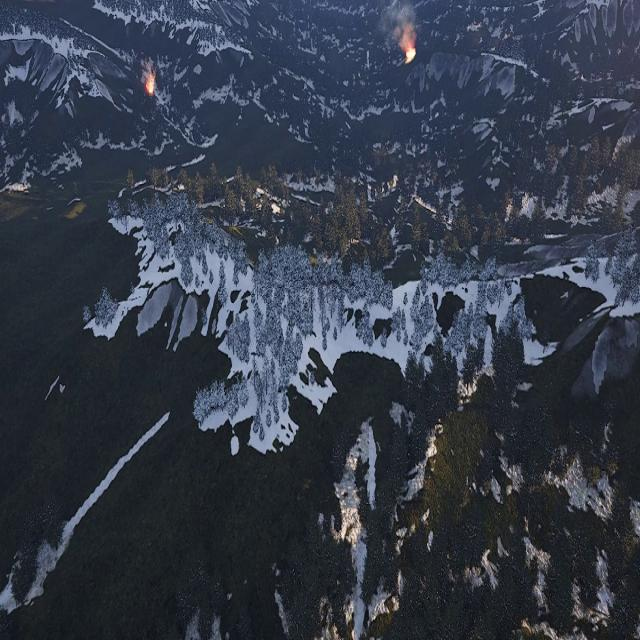fire: (405, 42, 417, 62), (145, 74, 155, 95)
smoke: (379, 0, 419, 44)
